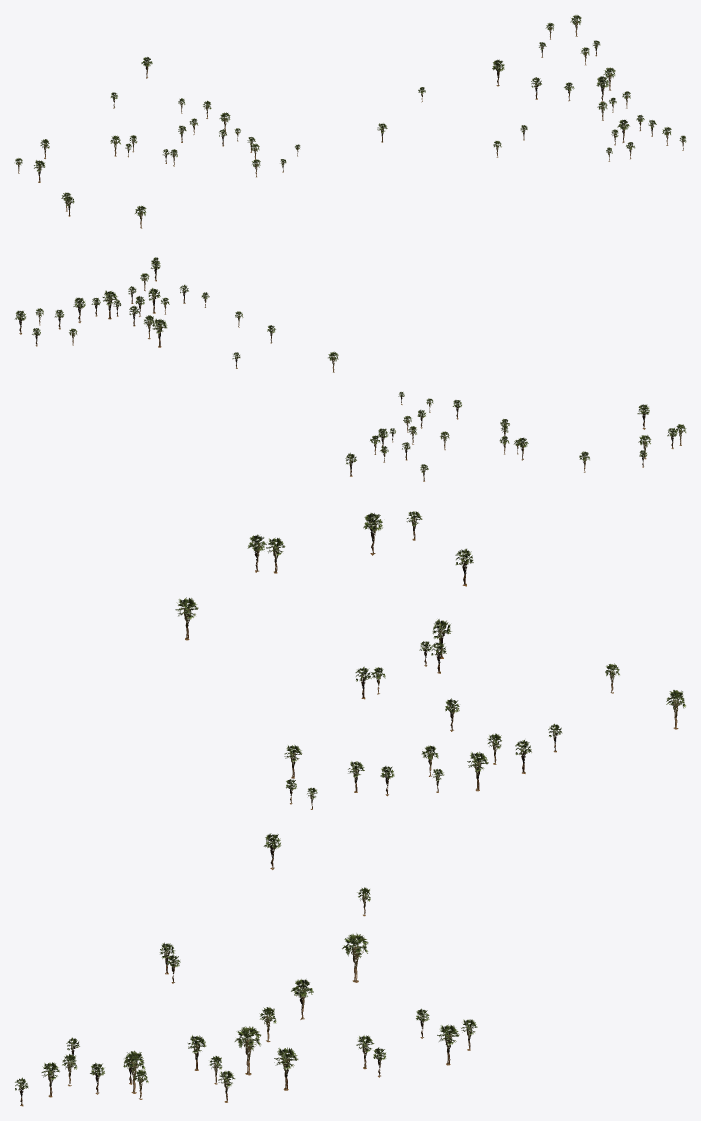
File: Palmera04.glb
3 views of the same model, one above another, from view 1: azimuth 30°, elevation 25°; view 2: azimuth 150°, elevation 25°; view 3: azimuth 270°, elevation 25° (orthographic). The views are drawn at different scales.
Visible parts, largest first — view 1: Palmera04Web; view 2: Palmera04Web; view 3: Palmera04Web.
Part boxes in pixels (left/top/right/bottom): Palmera04Web: left=14, top=15, right=686, bottom=228; Palmera04Web: left=14, top=257, right=686, bottom=481; Palmera04Web: left=15, top=511, right=686, bottom=1106.
Bounding box in the file's own units: 304 × 31.48 × 167.
Materials: 1 (1 with a texture image).
